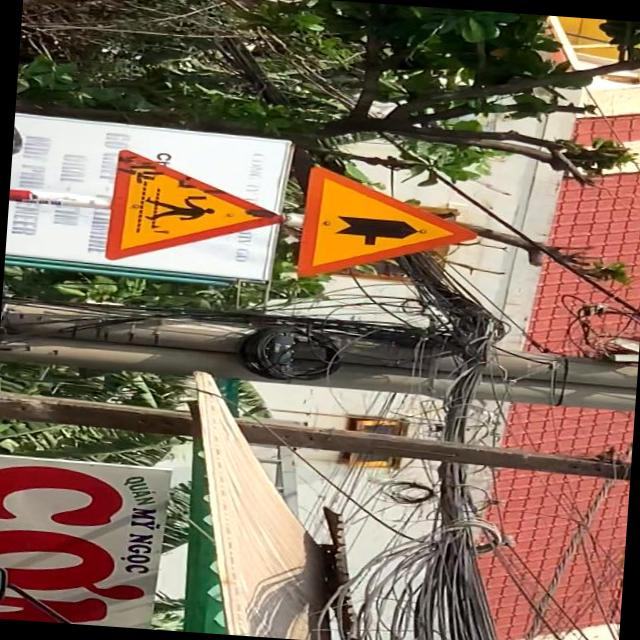W-207b: (288, 162, 485, 288)
W-224: (97, 143, 293, 271)
